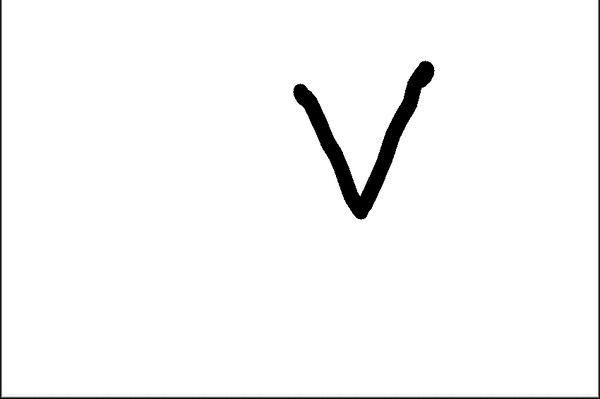V: (291, 55, 433, 224)
